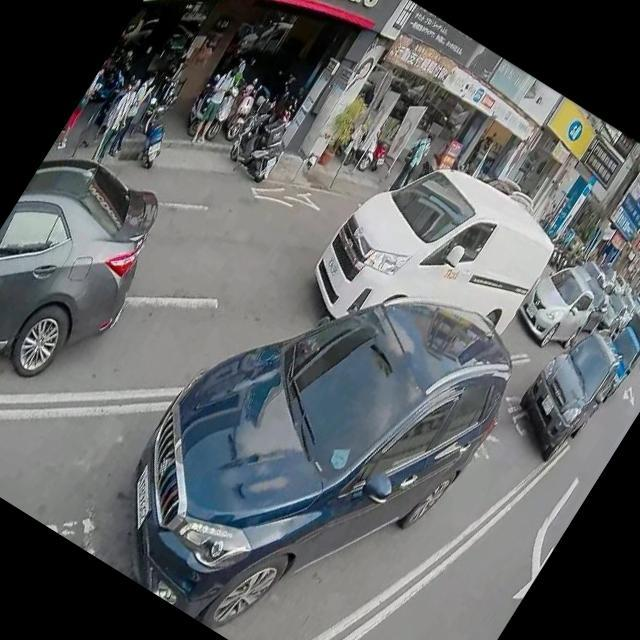person: (82, 72, 152, 168), (180, 62, 246, 150), (100, 70, 164, 158), (386, 128, 436, 195), (154, 38, 198, 100)
